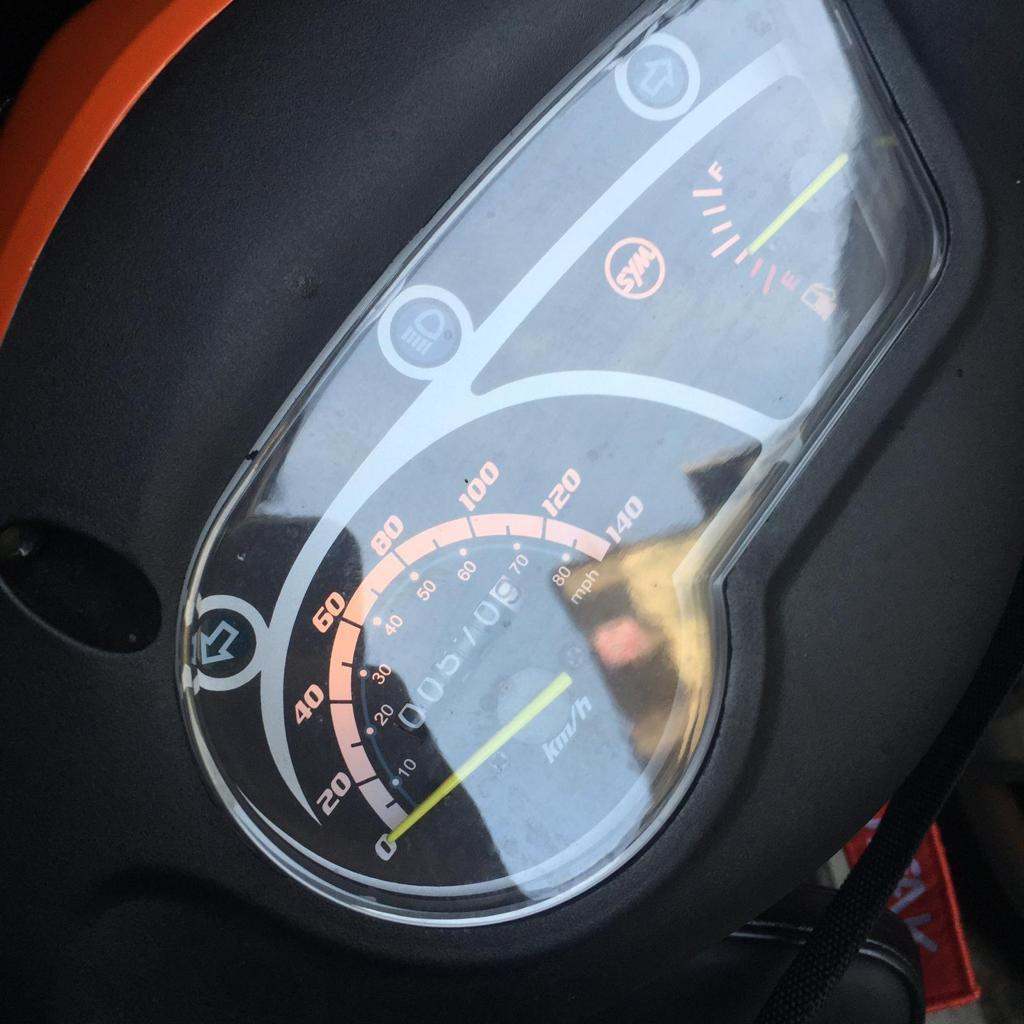0: (396, 701, 428, 729), (414, 678, 445, 706), (471, 600, 502, 627), (422, 579, 436, 592), (390, 615, 404, 626)
5: (432, 648, 462, 678), (416, 587, 431, 600)
6: (456, 568, 470, 581)
7: (450, 625, 477, 648)
9: (492, 577, 524, 605)
odometer: (394, 572, 532, 740)
